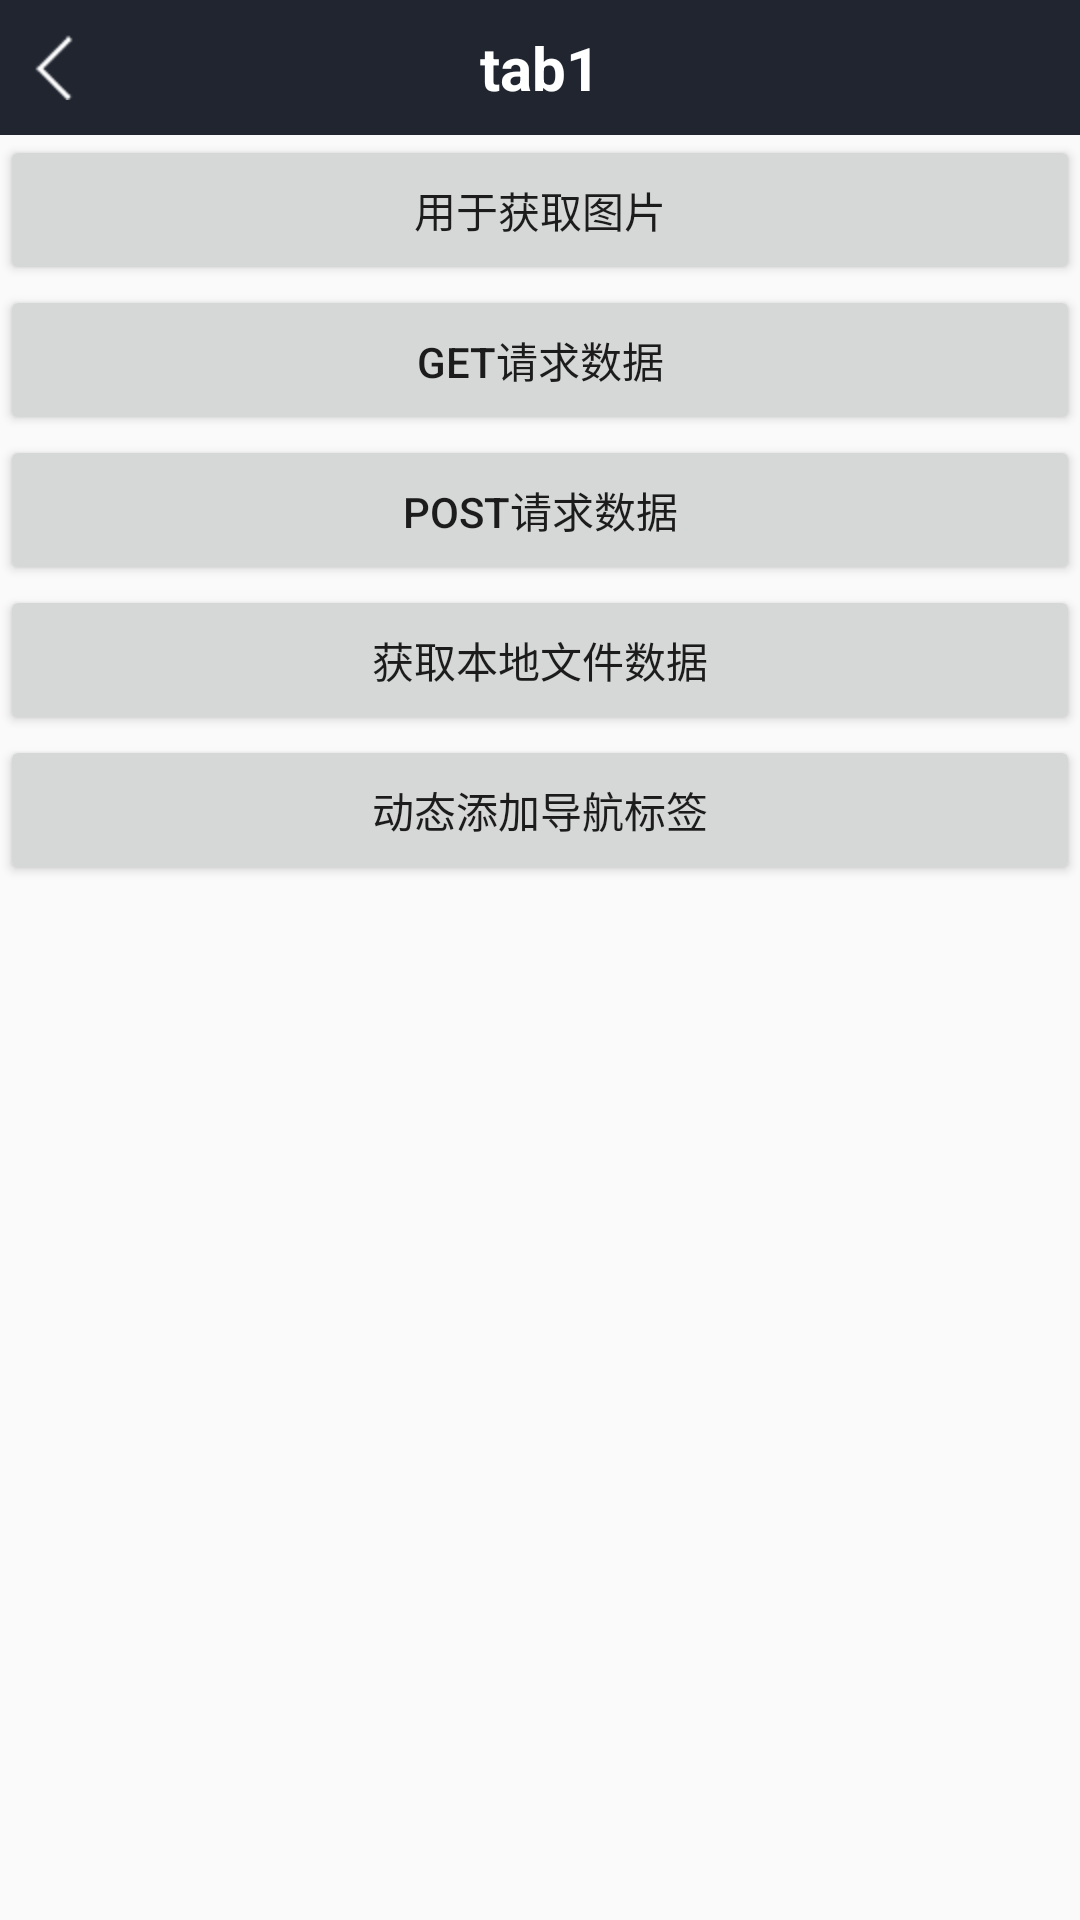

Icon click points for this 1080 × 1920 phone screenshot, format (x,y):
arrow: (54,67)
